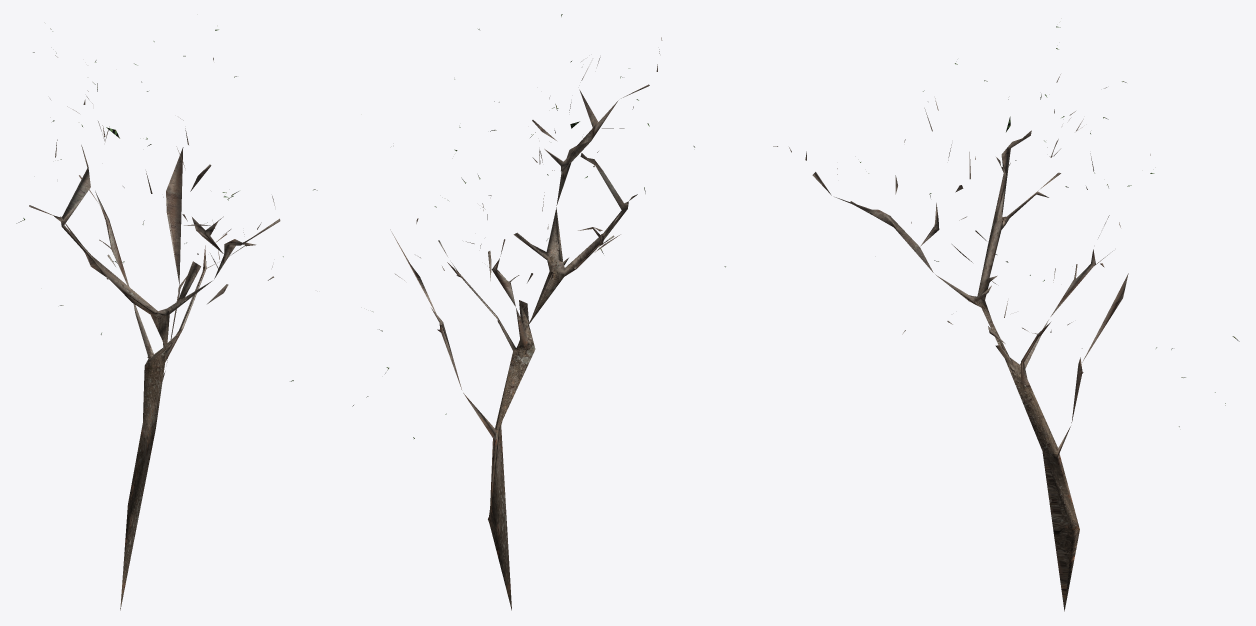
File: tree_road.glb
3 renders of one model, left to right at view 1: azimuth 30°, elevation 25°; view 2: azimuth 150°, elevation 25°; view 3: azimuth 270°, elevation 25°, orthographic. The views are drawn at different scales.
Visible parts, largest first — view 1: tree_small_02_LOD0; view 2: tree_small_02_LOD0; view 3: tree_small_02_LOD0.
Boxes of the visible parts, x1,y1,x2,y2 form: tree_small_02_LOD0: [16, 28, 317, 610]; tree_small_02_LOD0: [352, 14, 694, 610]; tree_small_02_LOD0: [724, 26, 1239, 611].
Bounding box in the file's own units: 1.78 × 4.53 × 3.77.
Materials: 3 (3 with a texture image).
